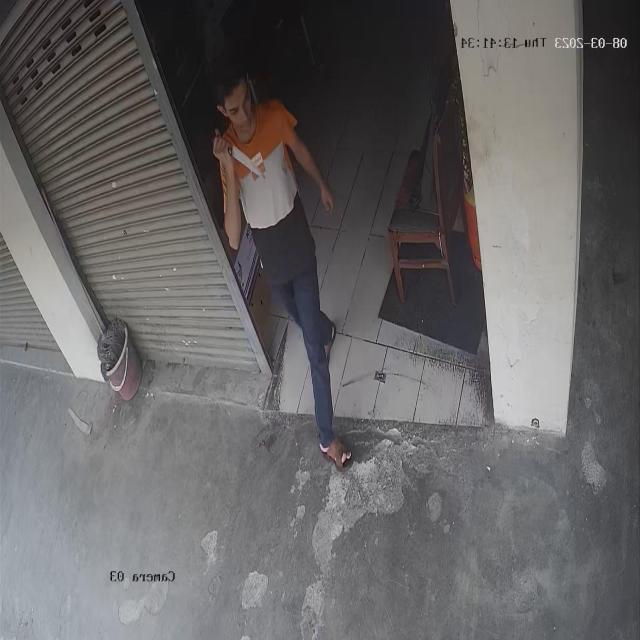Knife: (218, 141, 272, 182)
